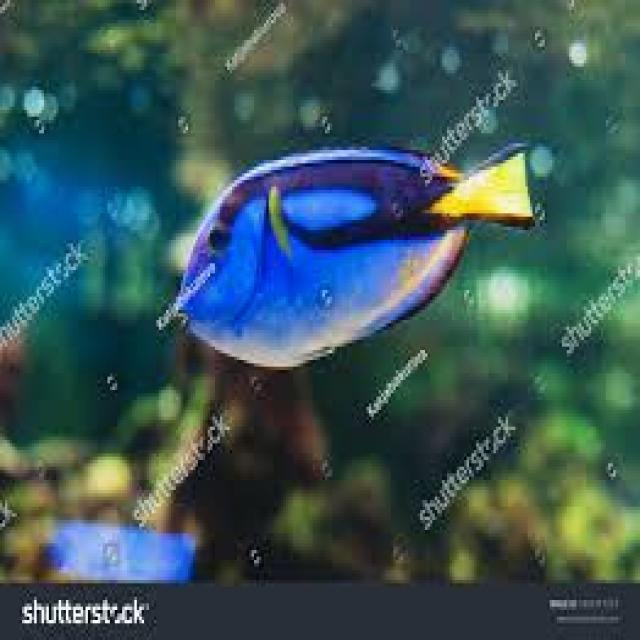BlueTang: (173, 151, 529, 363)
